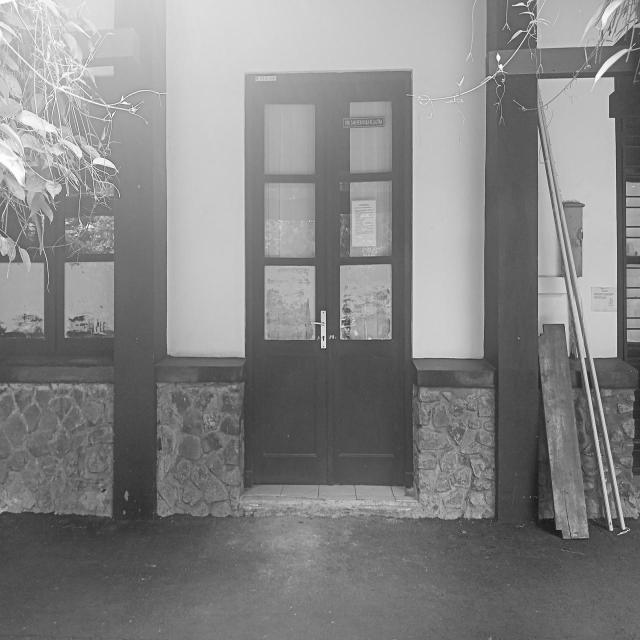door: (246, 72, 414, 490)
